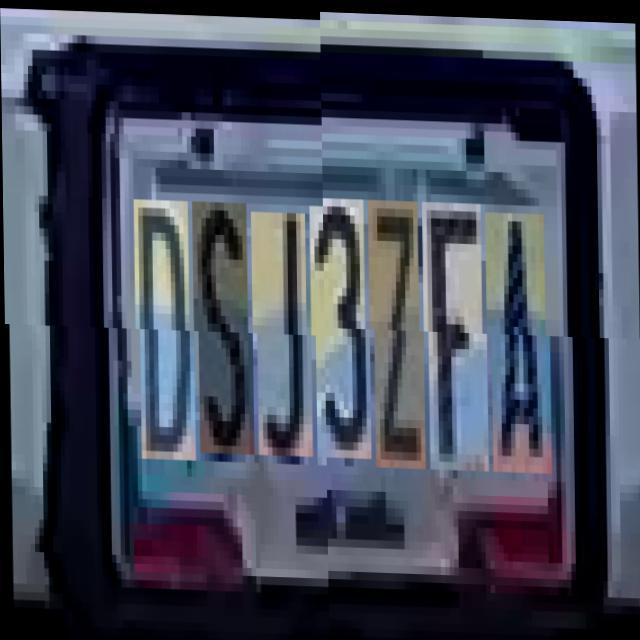3: (314, 203, 371, 464)
A: (489, 217, 551, 478)
D: (138, 198, 195, 459)
F: (426, 207, 488, 476)
J: (255, 210, 312, 454)
S: (196, 200, 253, 453)
Z: (372, 205, 425, 474)
